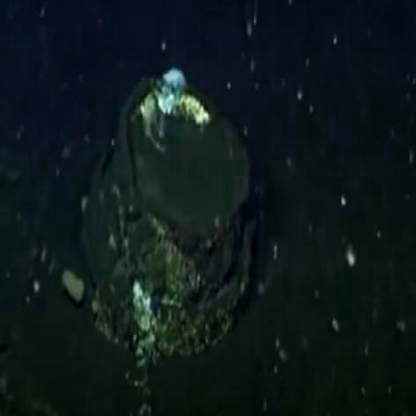misc: (71, 72, 272, 358)
